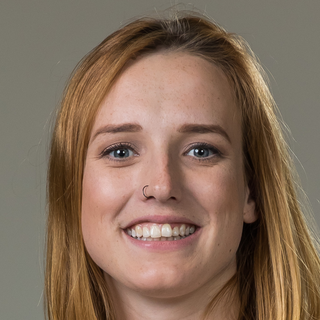eye: (178, 139, 226, 164), (96, 139, 142, 165)
